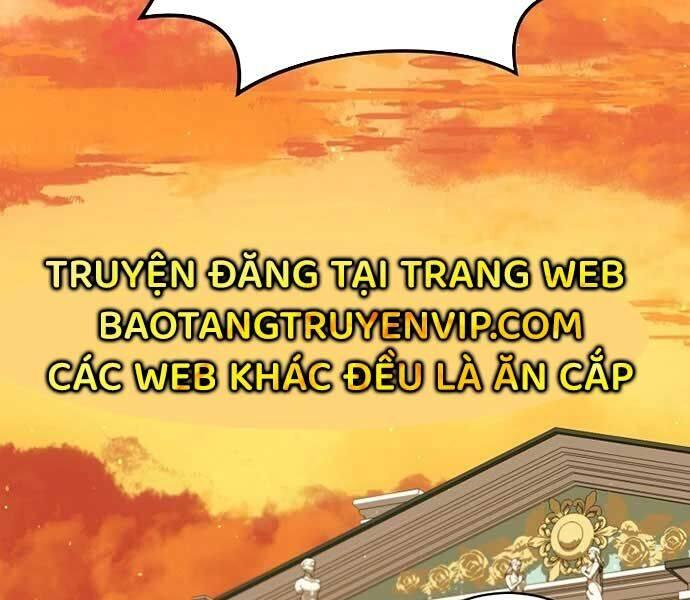quangcao: (41, 246, 639, 399)
